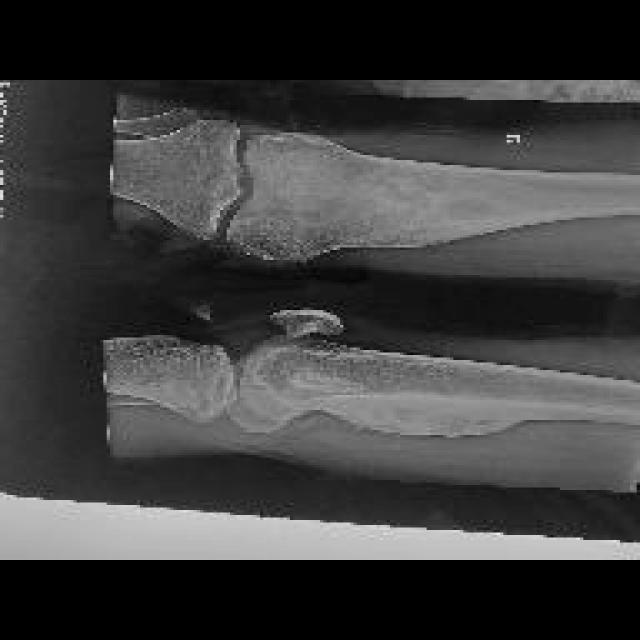bone-cancer: (293, 192, 491, 255), (316, 398, 562, 438)
